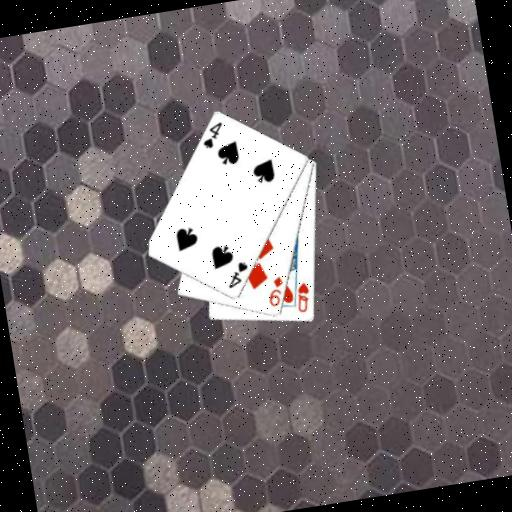4S: (222, 257, 253, 290), (196, 118, 227, 151)
9D: (262, 273, 287, 309)
QH: (291, 279, 314, 315)
